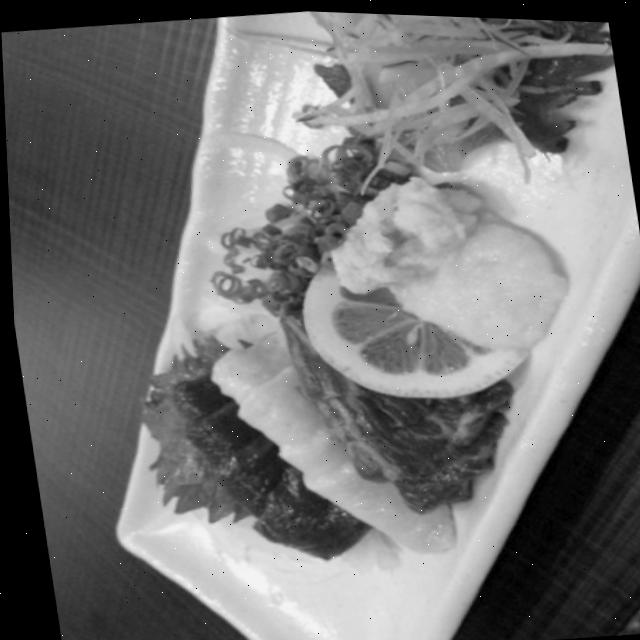刺身生食: (86, 177, 598, 617)
